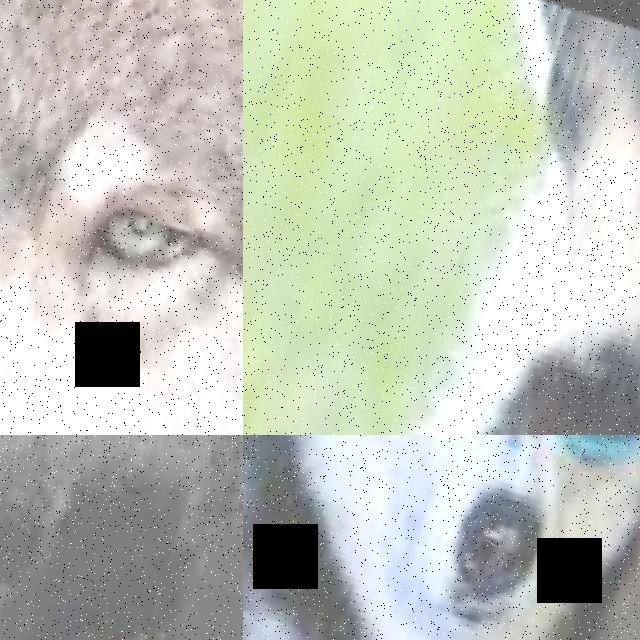dog: (260, 0, 640, 435), (243, 435, 640, 640), (0, 435, 243, 640)
wolf: (0, 0, 243, 435)
